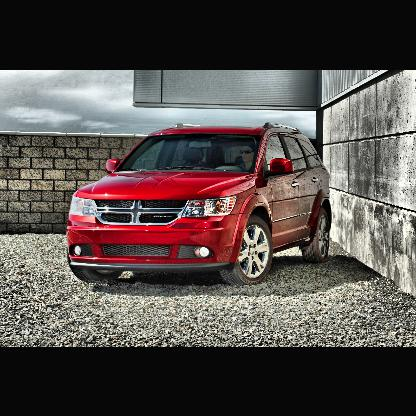Dodge Journey SUV 2012: (67, 122, 332, 286)
